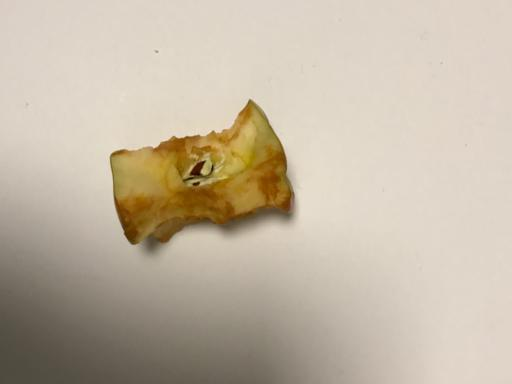trash: (111, 98, 297, 245)
